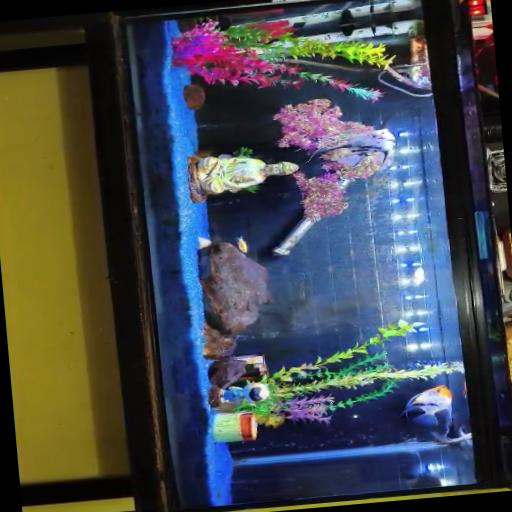Fish: (401, 384, 470, 443), (307, 128, 394, 165), (333, 128, 394, 165), (404, 472, 440, 488), (338, 8, 355, 35), (236, 235, 246, 252)
